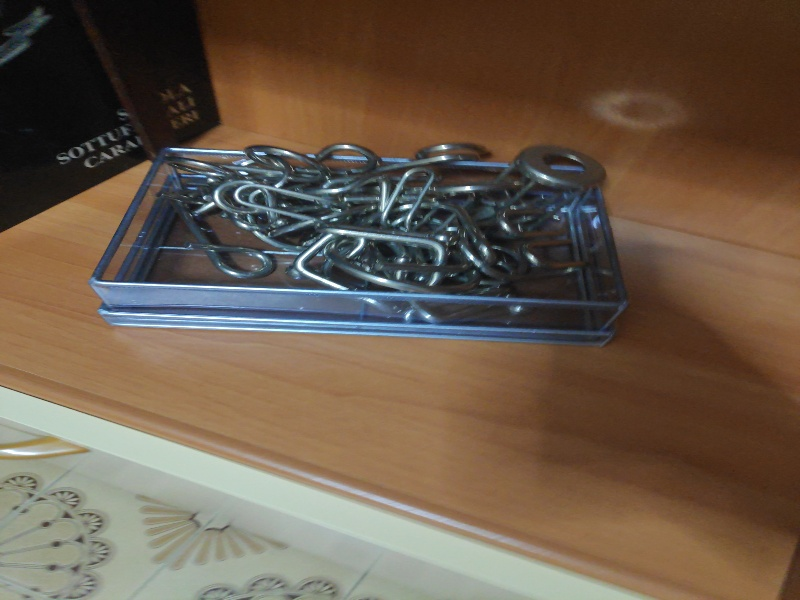games: (85, 135, 638, 351)
